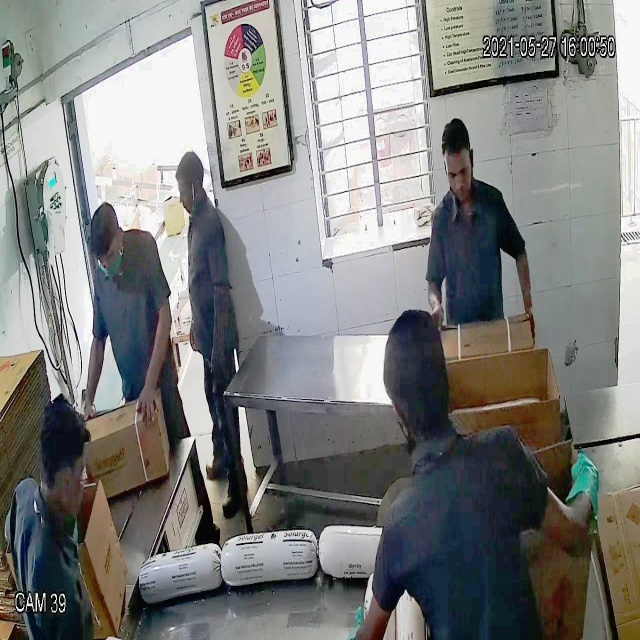Sin_gafas: (439, 158, 476, 189)
